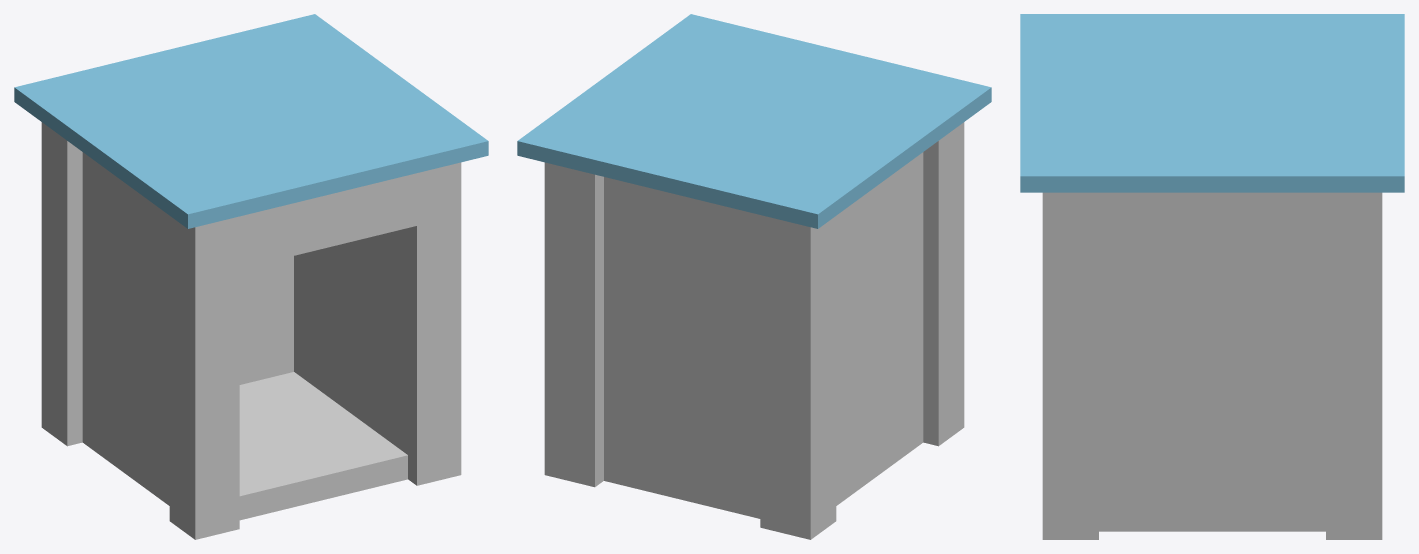
The model's file is Prop_Building_Eastern_Entrance_Base_01.FBX.
The picture shows the model from 3 angles, left to right: view 1: azimuth 30°, elevation 25°; view 2: azimuth 150°, elevation 25°; view 3: azimuth 270°, elevation 25°; orthographic projection. The views are drawn at different scales.
Visible parts, largest first — view 1: Prop_Building_Eastern_Entrance_Base_01; view 2: Prop_Building_Eastern_Entrance_Base_01; view 3: Prop_Building_Eastern_Entrance_Base_01.
Boxes of the visible parts, x1,y1,x2,y2 form: Prop_Building_Eastern_Entrance_Base_01: (14, 14, 488, 539); Prop_Building_Eastern_Entrance_Base_01: (517, 14, 991, 539); Prop_Building_Eastern_Entrance_Base_01: (1020, 14, 1404, 539).
Size of the model in its own units: 4164 by 4462 by 4164.
